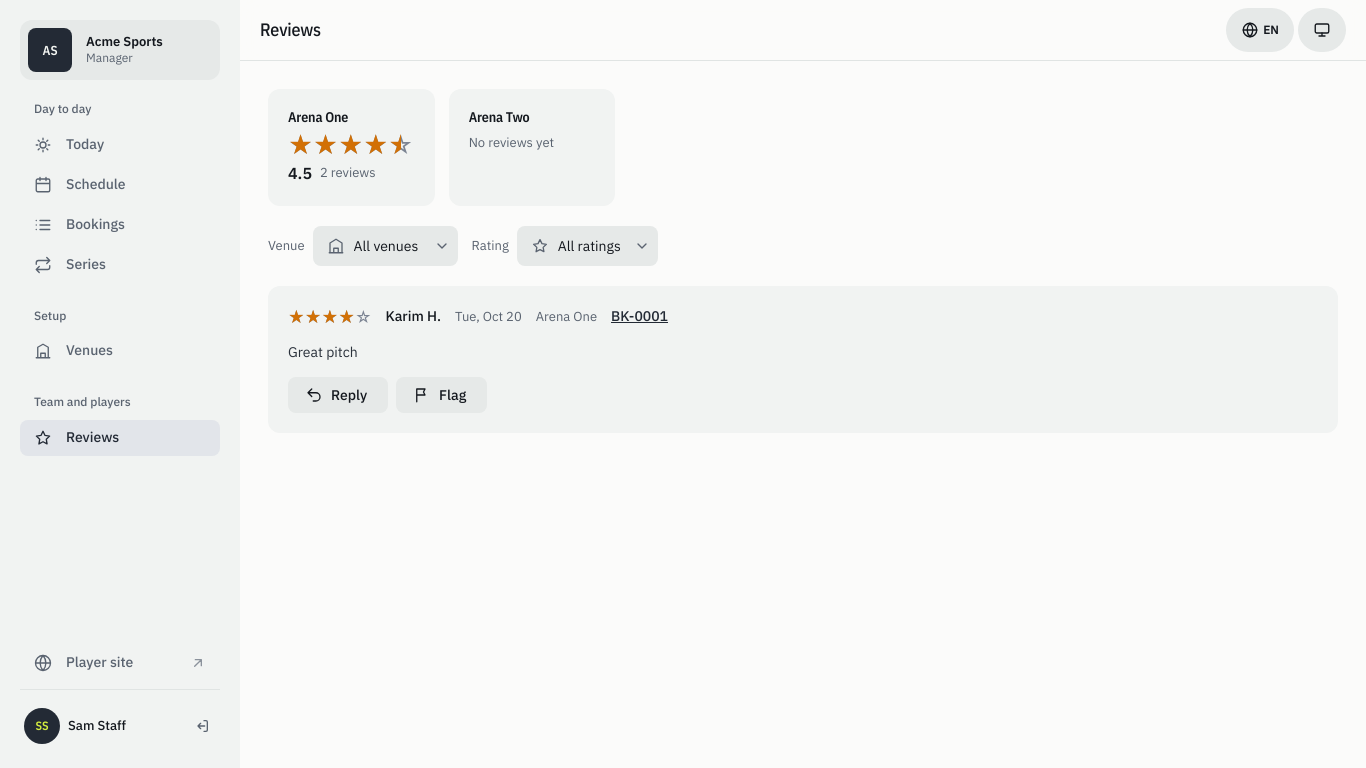
Test: owner Reviews page › shows a translated error when flagging is refused
The image size is (1366, 768).
Check: the text "Great pitch" is shown, box top-left (288, 343), bottom-right (358, 361)
What coordinates should you click on to do the following:
click the button "Flag"
I would click on:
 (442, 395)
Its box is top-left (396, 377), bottom-right (487, 413).
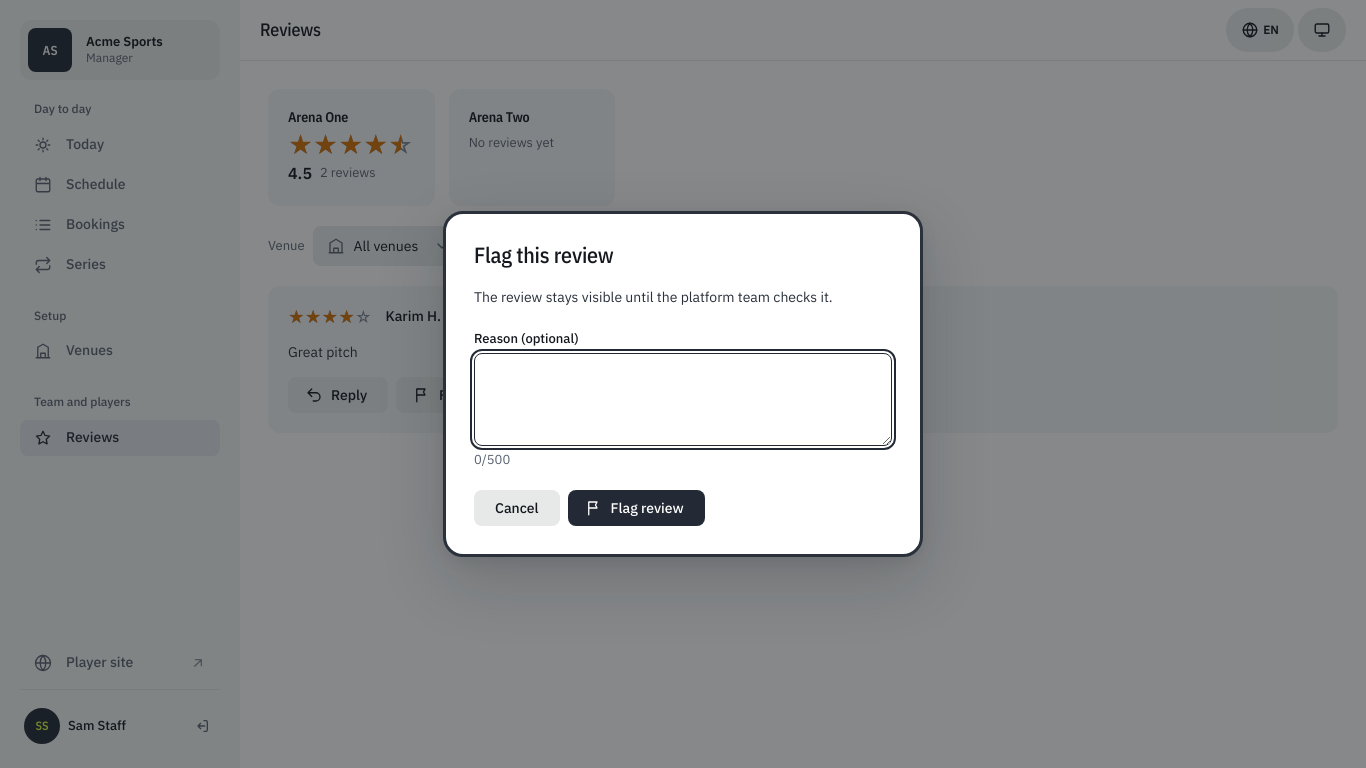
What coordinates should you click on to do the following:
click the button "Flag review"
I would click on:
 (636, 508)
Its box is top-left (568, 490), bottom-right (705, 526).
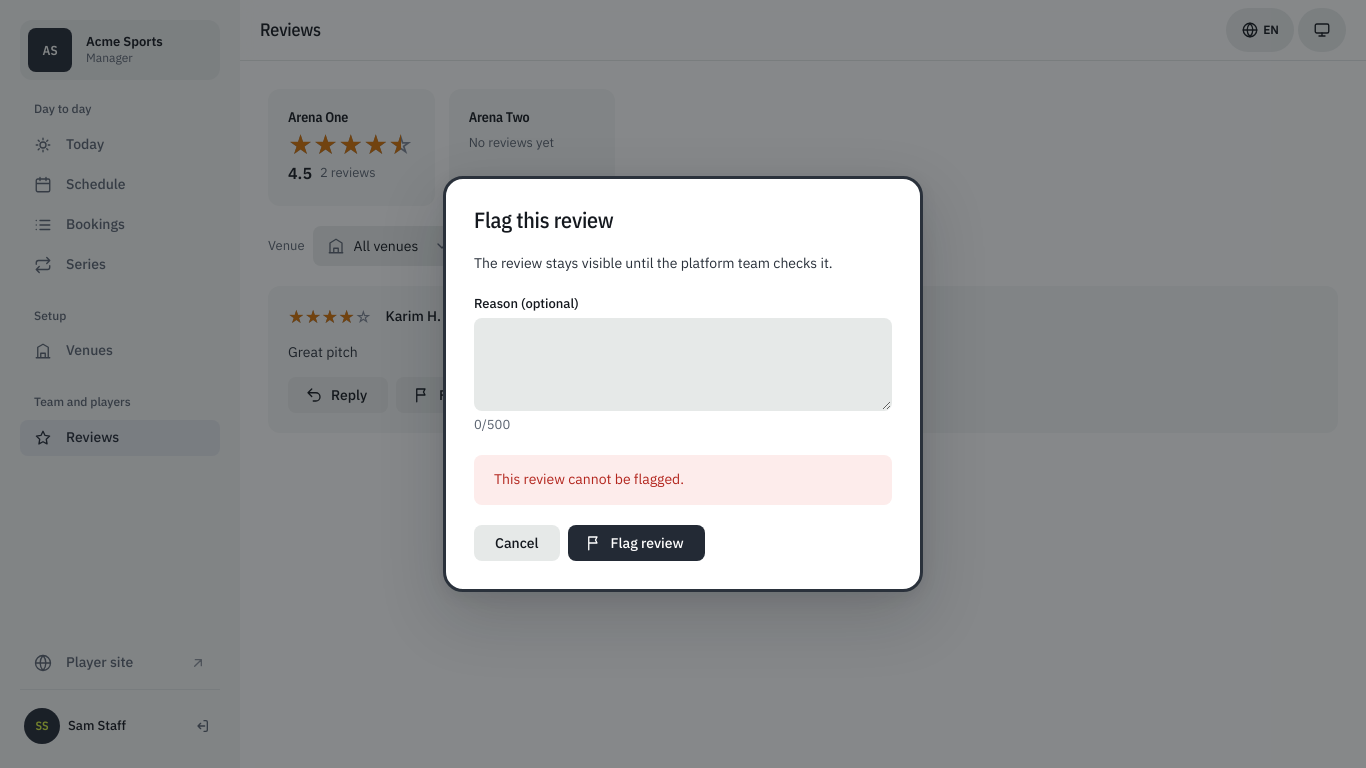
Check: the text "This review cannot be flagged." is shown, box top-left (474, 455), bottom-right (892, 505)
